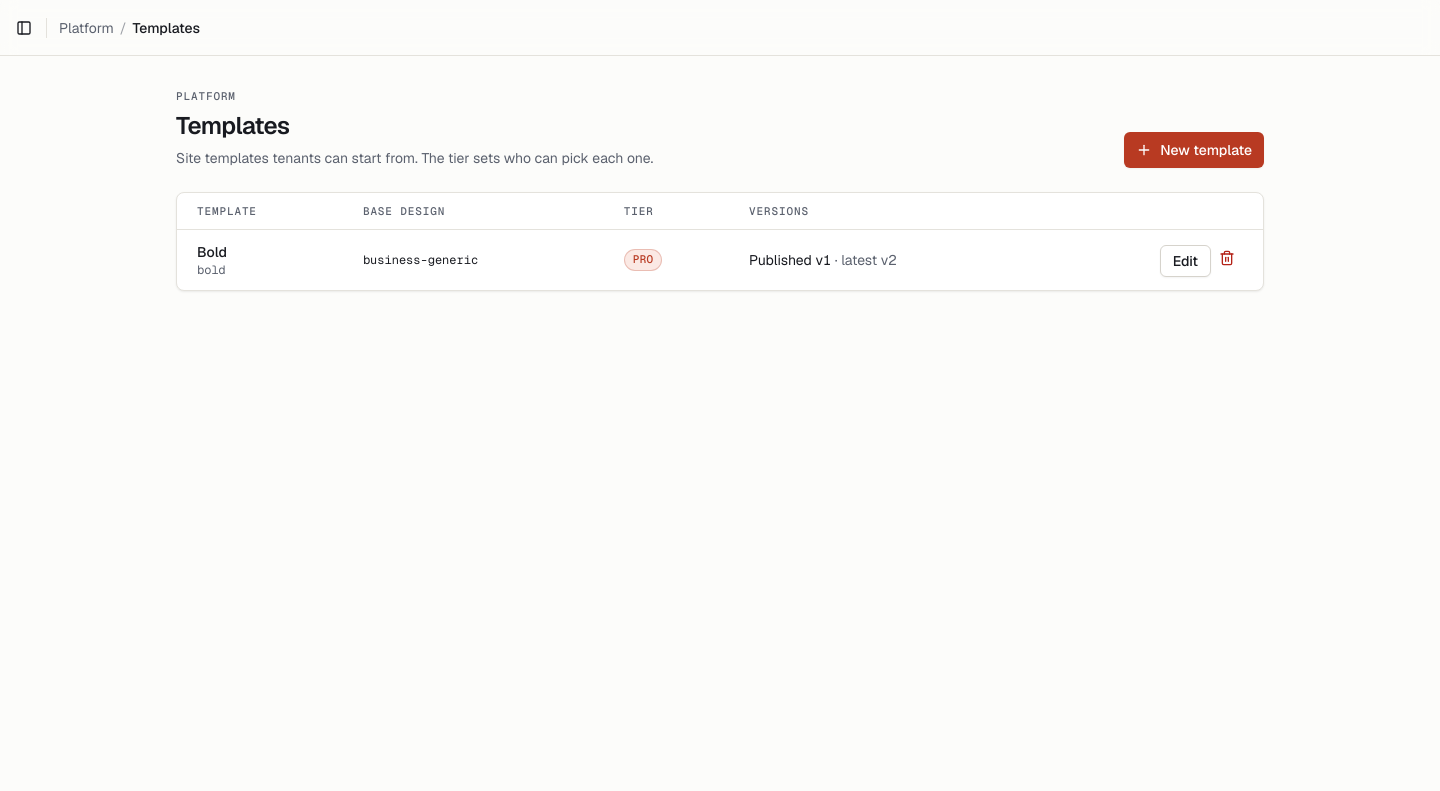
template list → full-page editor › lists templates without a side sheet and opens the editor route
Expected: the link "Bold" is shown, [197,242,227,262]
Expected: the text "Published v1 · latest v2" is shown, [749,250,897,268]
Click the link with aria-label "Edit Bold": click(1185, 261) [1160,245,1211,277]
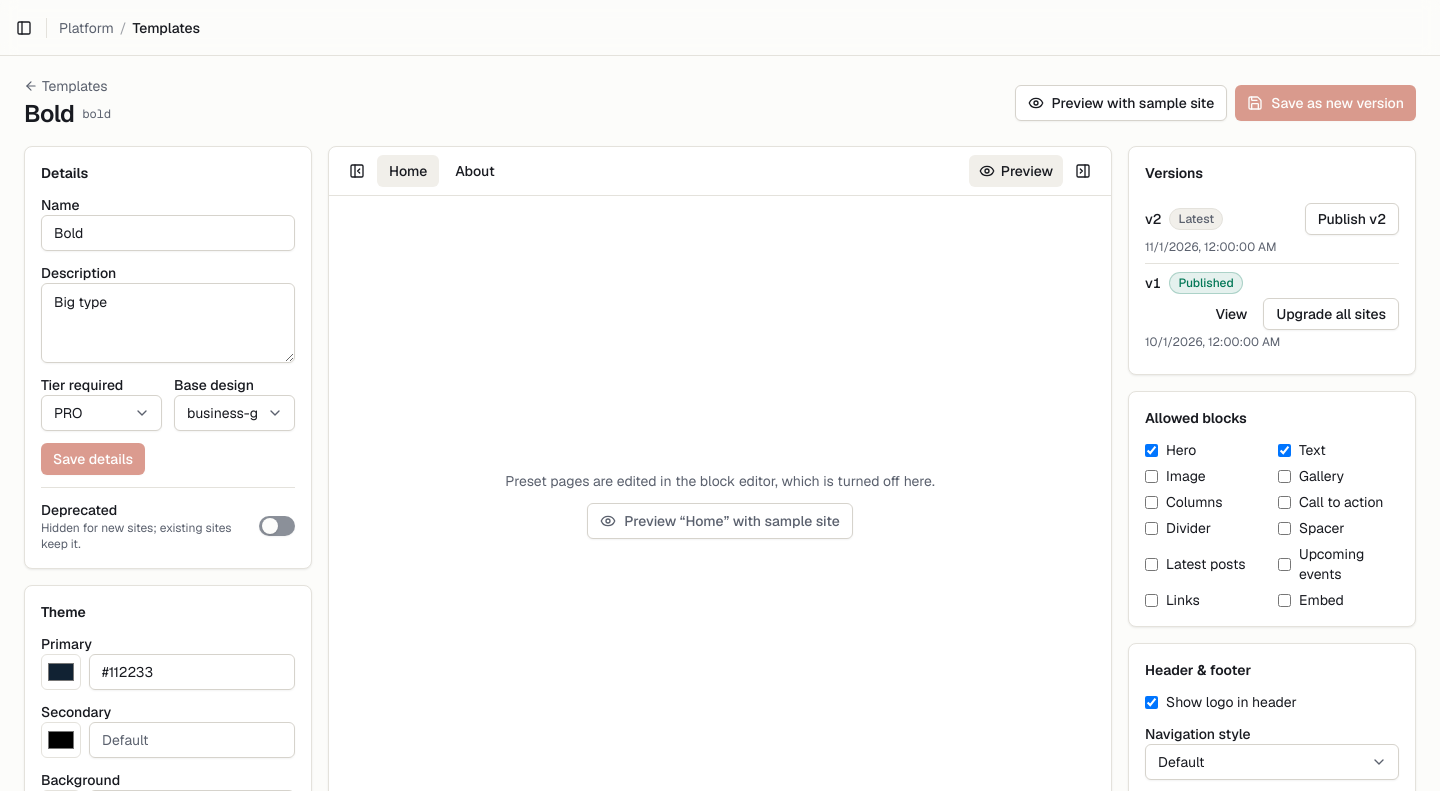
Expected: the heading "Bold" is shown, [24,98,74,130]
Now the field labelled "Primary" holds "#112233", box [89,654,295,690]
